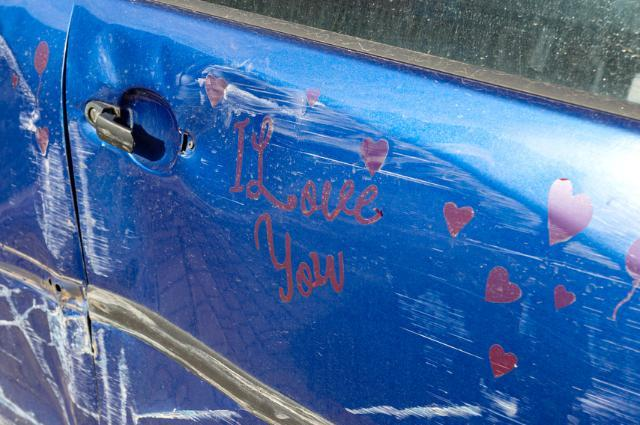Door: (0, 96, 640, 424)
